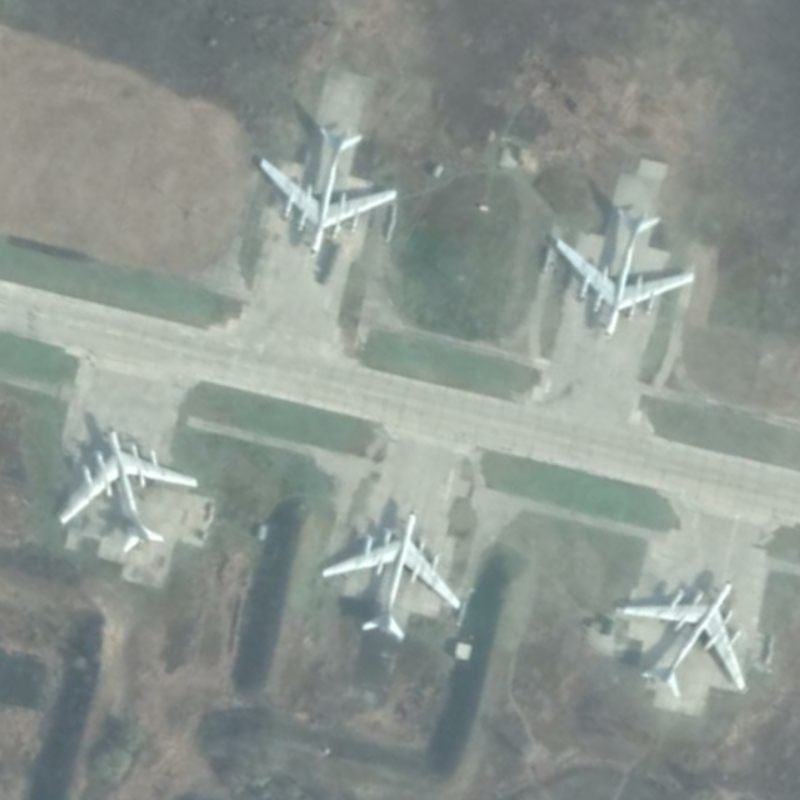A17: (256, 123, 399, 262), (554, 206, 697, 343), (319, 510, 464, 641), (55, 424, 200, 555), (620, 579, 749, 700)
